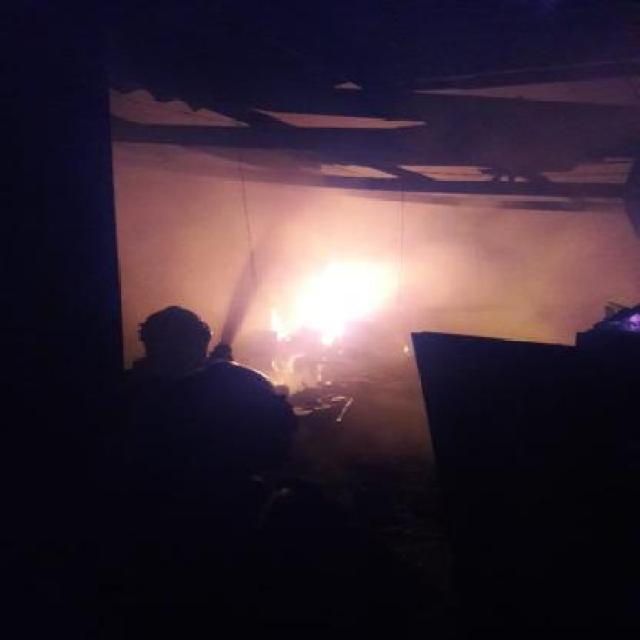Fire: (268, 254, 402, 349)
